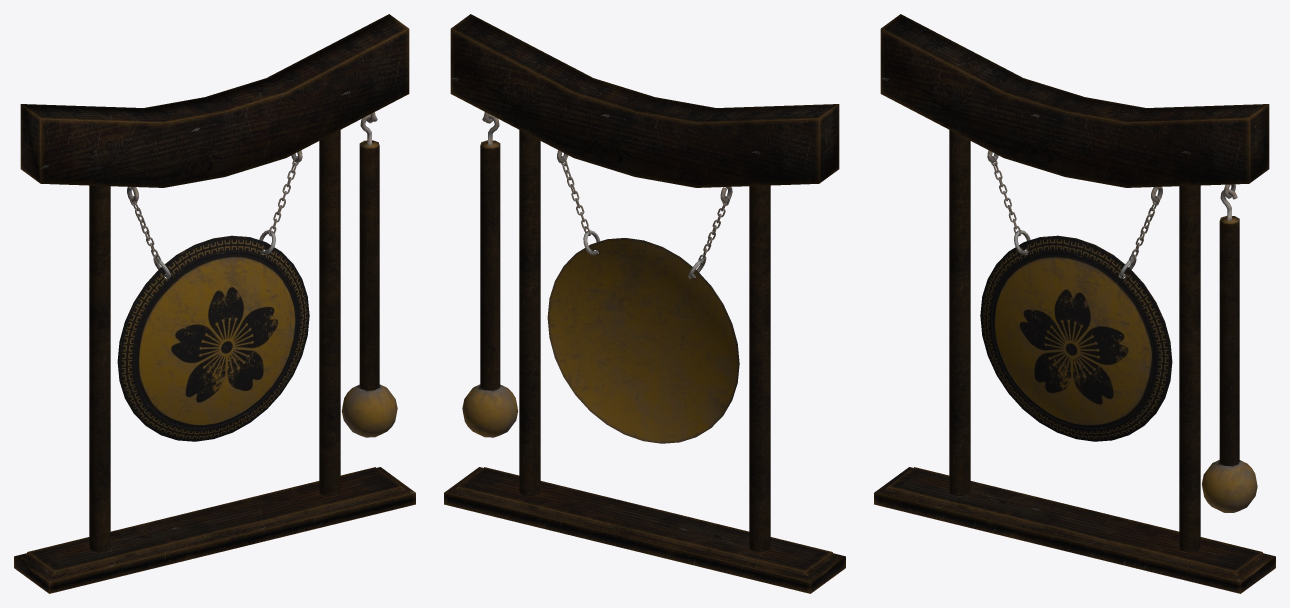
Rendered from garden-chime.glb.
3 renders of one model, left to right at view 1: azimuth 30°, elevation 25°; view 2: azimuth 150°, elevation 25°; view 3: azimuth 330°, elevation 25°, orthographic.
Visible parts, largest first — view 1: Base, Gong, Hummer, Chain; view 2: Base, Gong, Hummer, Chain; view 3: Base, Gong, Hummer, Chain.
Boxes of the visible parts, <box> form: Base: <box>14,14,415,593</box>; Gong: <box>117,235,309,441</box>; Hummer: <box>341,114,397,437</box>; Chain: <box>129,156,298,263</box>; Base: <box>444,14,845,593</box>; Gong: <box>547,238,739,443</box>; Hummer: <box>462,114,518,437</box>; Chain: <box>561,156,729,263</box>; Base: <box>874,14,1275,593</box>; Gong: <box>980,235,1172,441</box>; Hummer: <box>1202,189,1257,512</box>; Chain: <box>991,156,1160,263</box>.
Size of the model in its own units: 0.2046 by 0.2493 by 0.0338.
Materials: 1 (1 with a texture image).
